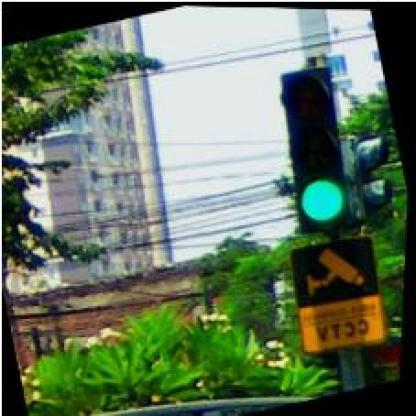green: (262, 60, 368, 233)
